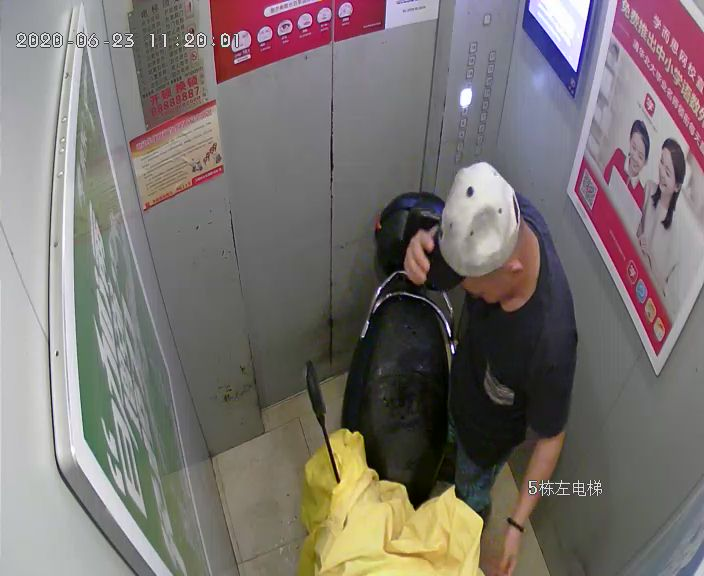Electric-bicycle: (297, 190, 477, 576)
